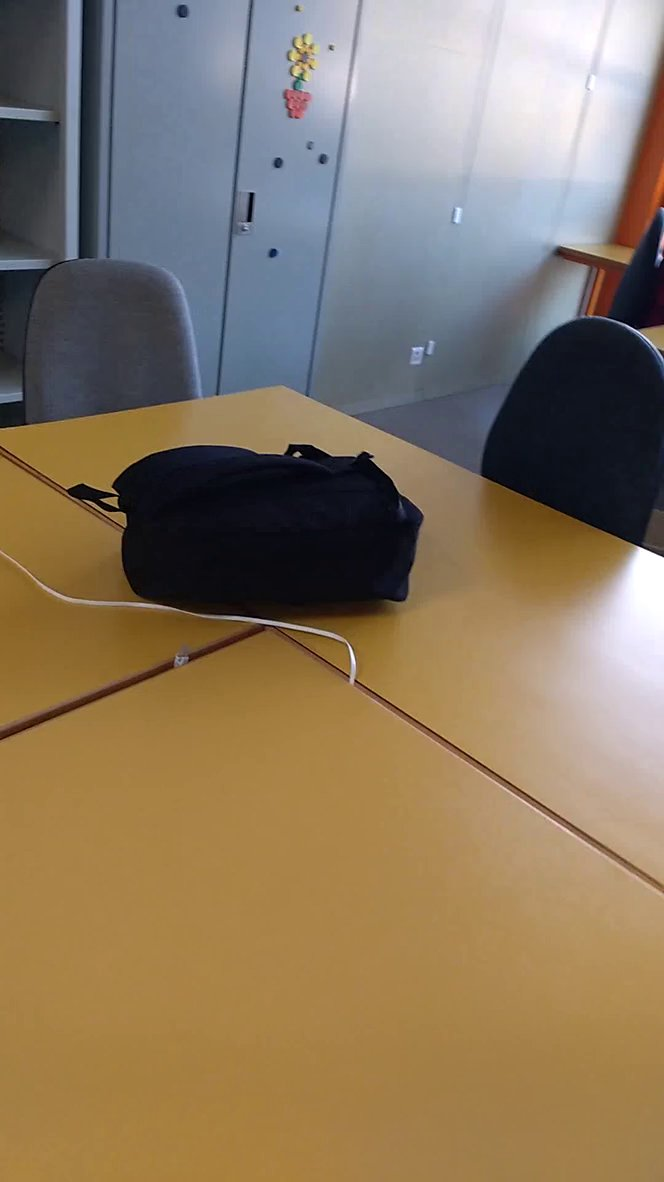bag: (65, 439, 438, 631)
chair: (480, 291, 664, 573), (8, 228, 226, 436)
